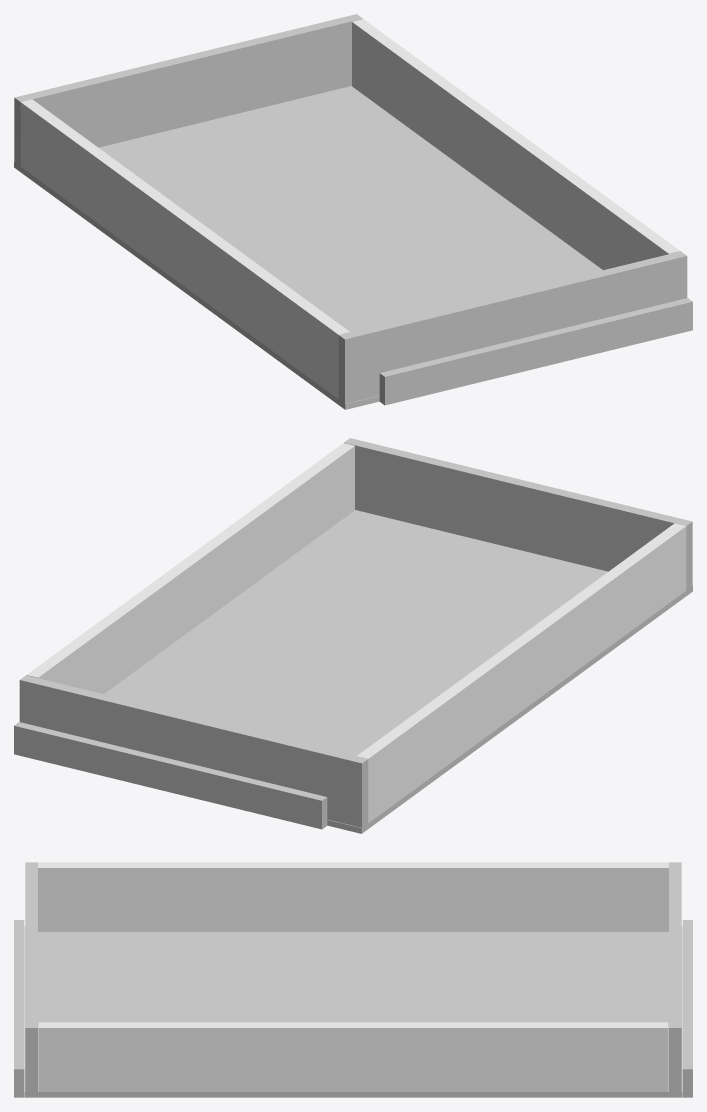
The model's file is HOCTU777.glb.
3 views of the same model, one above another, from view 1: azimuth 30°, elevation 25°; view 2: azimuth 150°, elevation 25°; view 3: azimuth 270°, elevation 25° (orthographic).
Visible parts, largest first — view 1: S-XZ_P, S-YZ_P, S-YZ_P-X, S-XY_P-Z, S-XY_P, S-X_P; view 2: S-XZ_P, S-YZ_P, S-YZ_P-X, S-XY_P, S-XY_P-Z, S-X_P-Z; view 3: S-XZ_P, S-YZ_P, S-YZ_P-X, S-XY_P, S-XY_P-Z, S-X_P-Z, S-X_P.
Part boxes in pixels (box(x1,y1,x2,y2)): S-XZ_P: box(14, 86, 602, 409); S-YZ_P: box(20, 99, 349, 398); S-YZ_P-X: box(352, 19, 680, 270); S-XY_P-Z: box(14, 14, 362, 166); S-XY_P: box(338, 251, 687, 403); S-X_P: box(379, 298, 692, 405); S-XZ_P: box(104, 510, 692, 833); S-YZ_P: box(357, 523, 686, 822); S-YZ_P-X: box(26, 443, 354, 694); S-XY_P: box(344, 438, 692, 590); S-XY_P-Z: box(19, 675, 368, 827); S-X_P-Z: box(14, 722, 327, 829); S-XZ_P: box(24, 926, 682, 1097); S-YZ_P: box(38, 862, 668, 931); S-YZ_P-X: box(38, 1022, 668, 1091); S-XY_P: box(25, 862, 37, 1091); S-XY_P-Z: box(669, 862, 681, 1091); S-X_P-Z: box(682, 920, 692, 1097); S-X_P: box(14, 920, 24, 1097).
Bounding box in the file's own units: 0.5 × 0.098 × 0.865.
2 materials, 1 textured.
